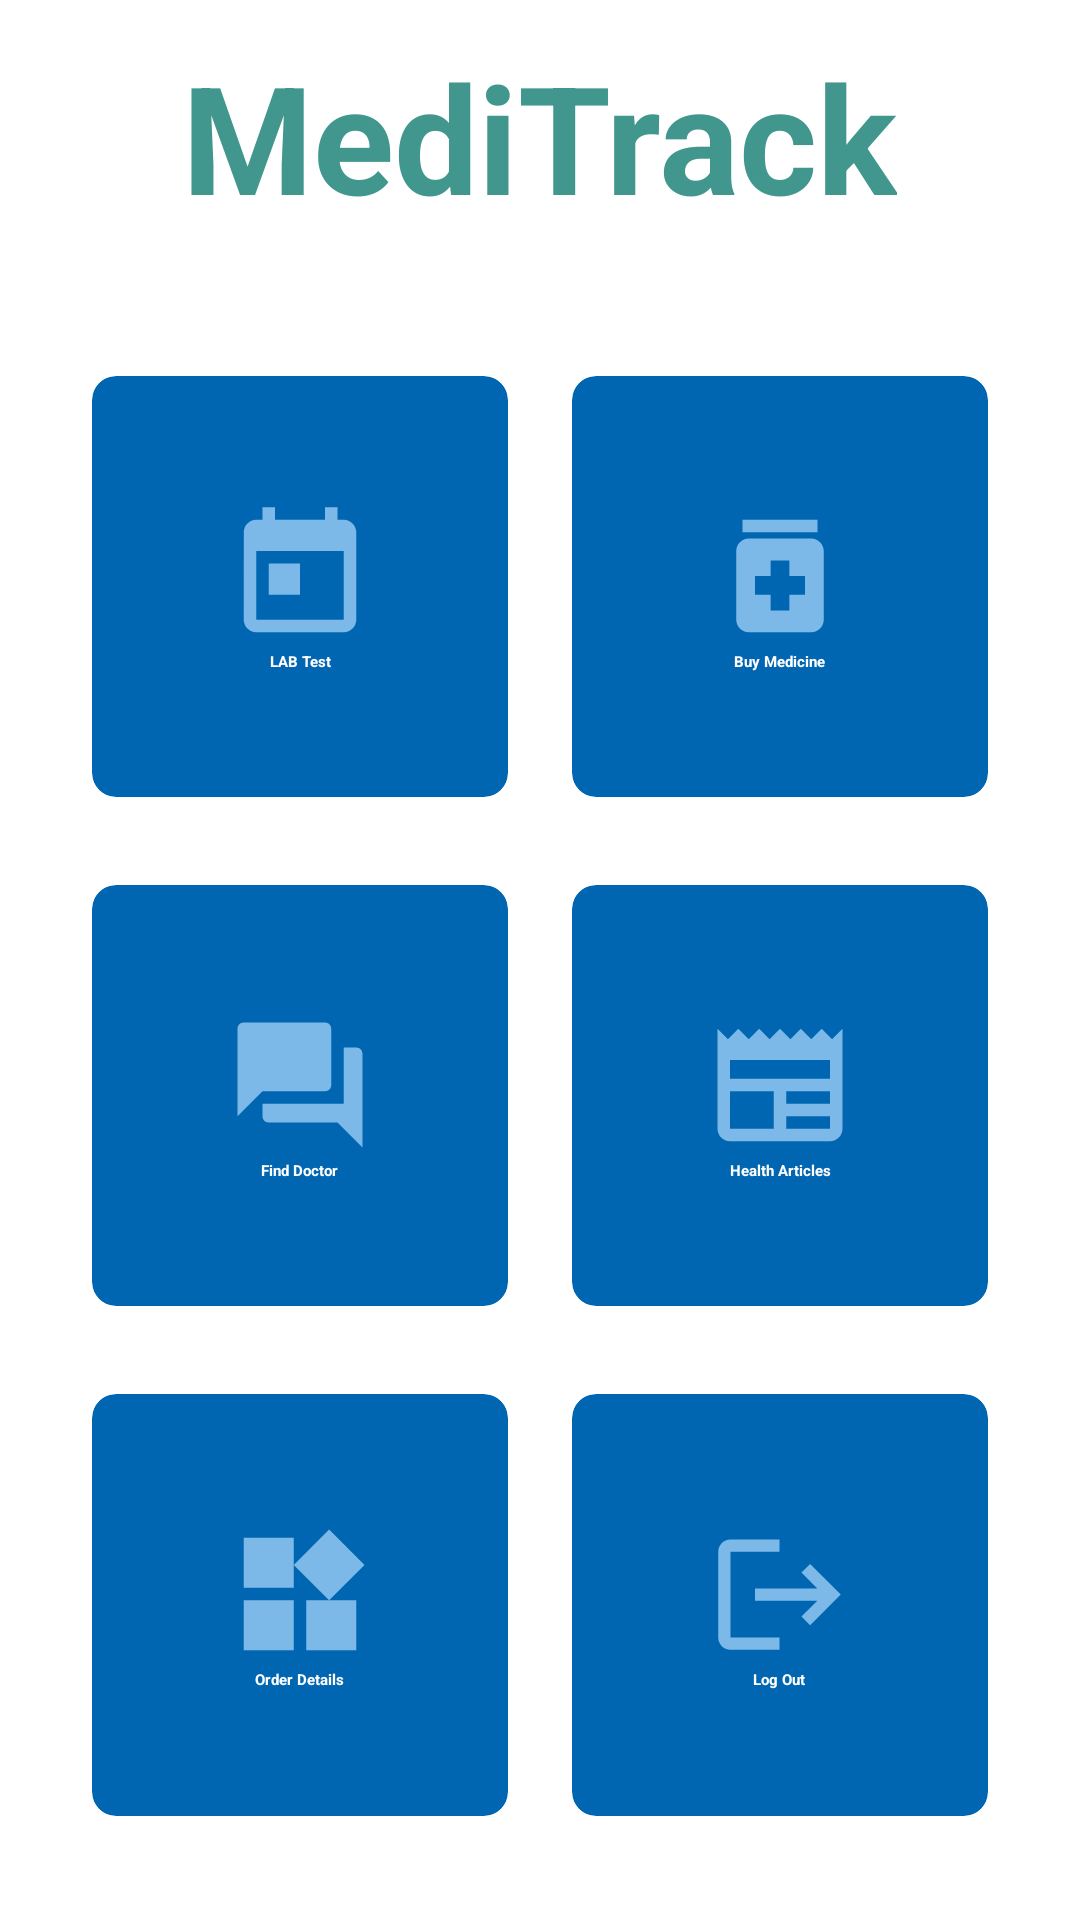

Icons on this 1080 × 1920 Android screen, each with its box as (x1, y1, x2, y2):
calendar: (243, 507, 357, 633)
chat: (237, 1022, 363, 1147)
news: (717, 1029, 843, 1142)
widgets: (243, 1530, 364, 1651)
